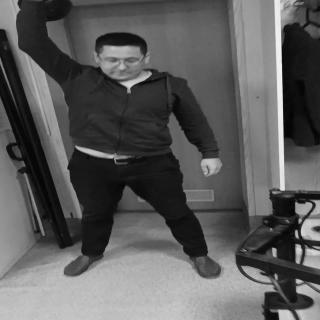kettlebell: (18, 1, 75, 24)
